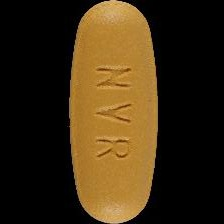54868-5997: (0, 0, 224, 224)
